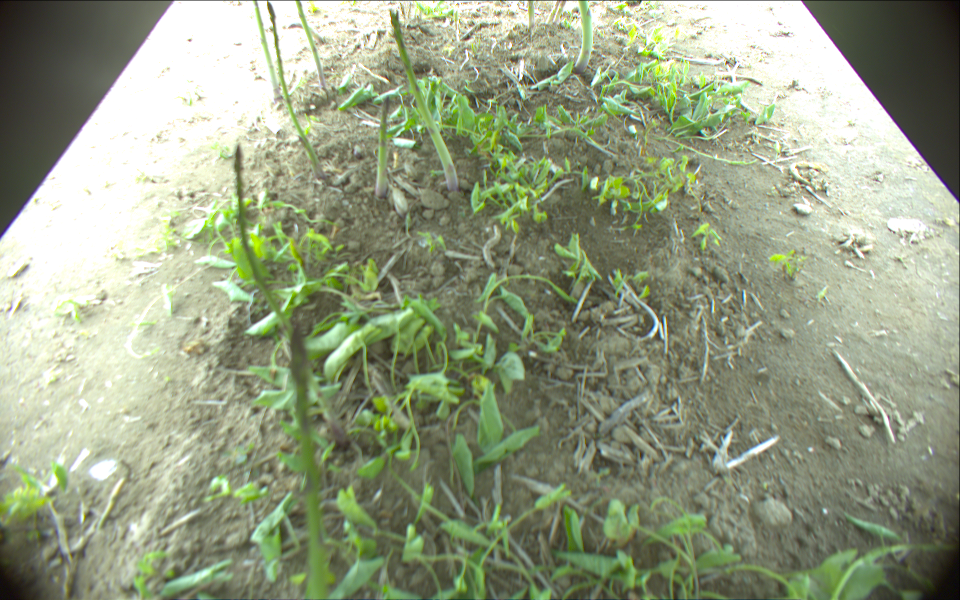aspa: (229, 137, 297, 338), (386, 8, 461, 189), (268, 1, 325, 171), (300, 313, 325, 600), (296, 1, 328, 92), (253, 1, 279, 92), (571, 1, 596, 71), (376, 93, 391, 195), (546, 1, 561, 28), (555, 1, 568, 24), (529, 1, 536, 29)
